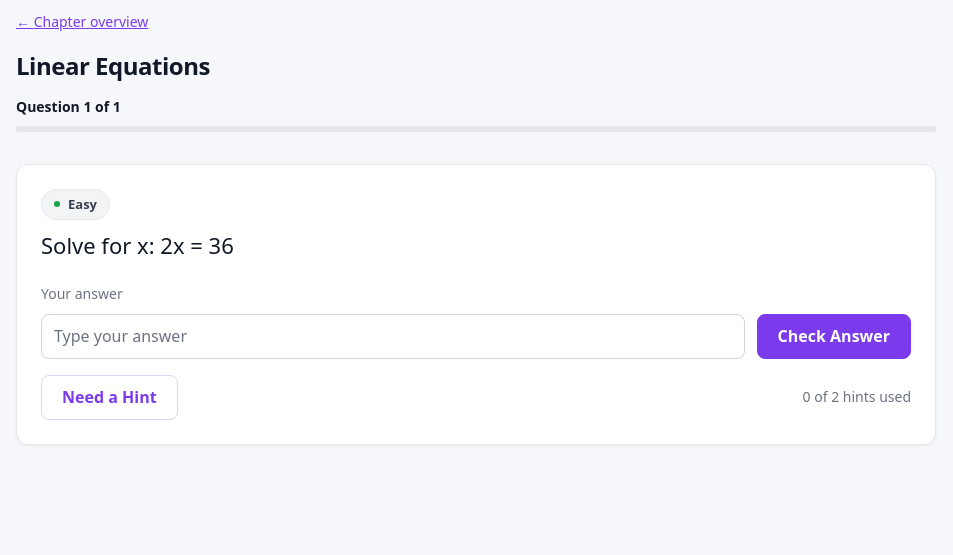
Test: QuestionPage - saving note for a newly created identity (S4a) › is not shown for an existing student
This screenshot has width=953, height=555.
Expected: the text "Solve for x: 2x = 36" is shown, [41,230,234,260]
In the field with placeholder "Type your answer": (393, 336) [41,314,745,359], type "18"
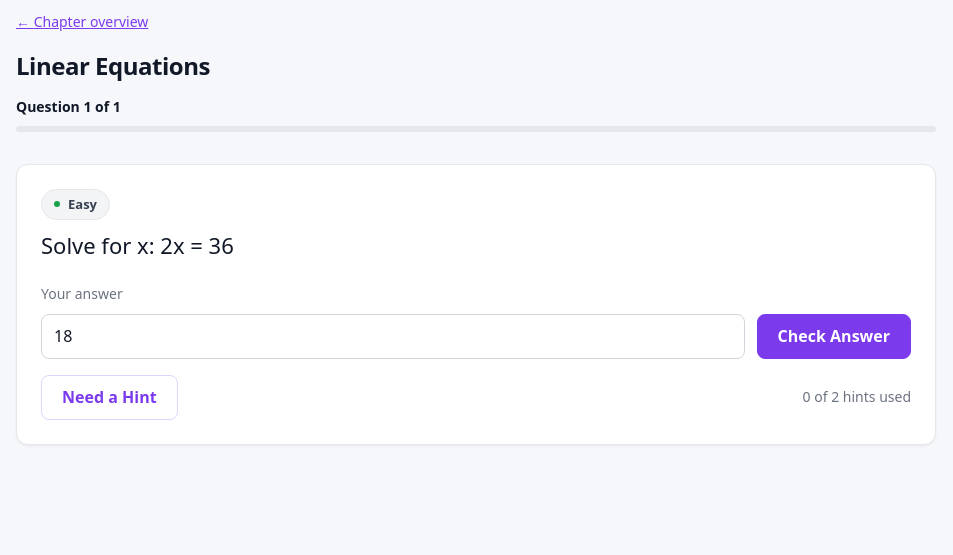
Click the button "Check Answer": (834, 336) [757,314,911,359]
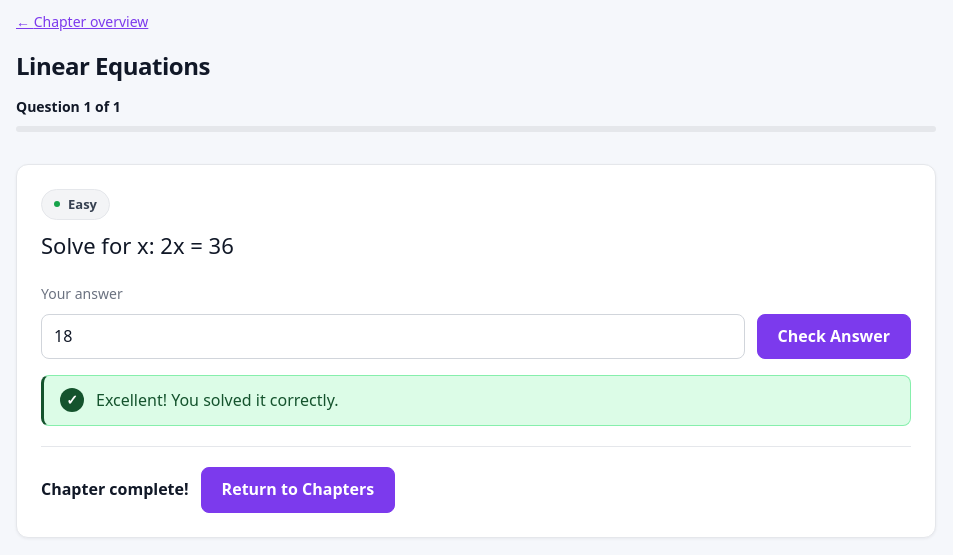
Result: the text "Excellent! You solved it correctly." is shown at [96,388,338,414]
